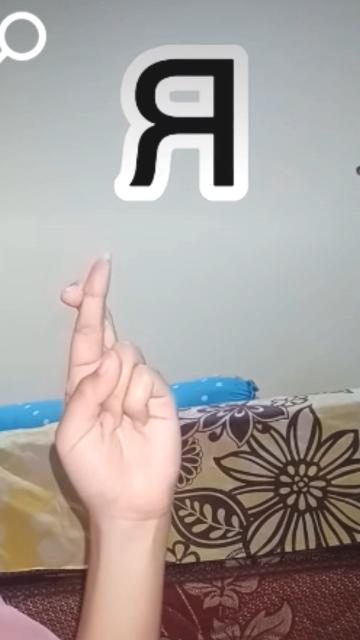R: (33, 246, 193, 520)
